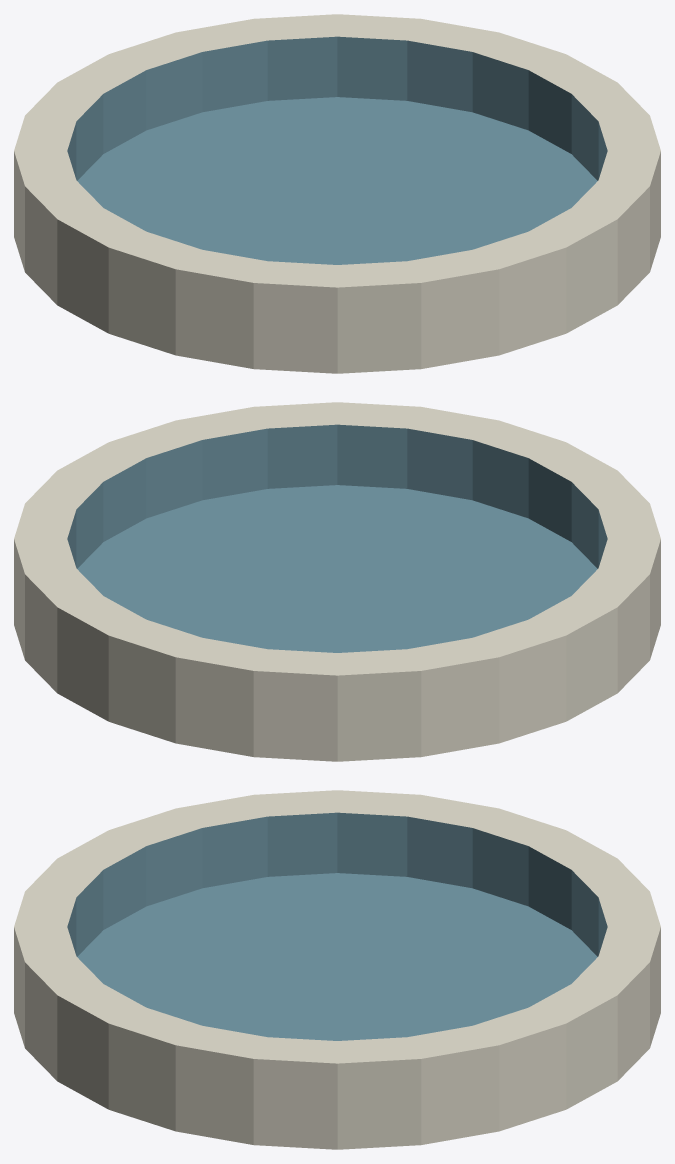
The model's file is park_fountain_basin.glb.
3 views of the same model, one above another, from view 1: azimuth 30°, elevation 25°; view 2: azimuth 150°, elevation 25°; view 3: azimuth 270°, elevation 25° (orthographic).
Visible parts, largest first — view 1: park_fountain_basin; view 2: park_fountain_basin; view 3: park_fountain_basin.
Boxes of the visible parts, x1,y1,x2,y2 form: park_fountain_basin: (14,14,660,373); park_fountain_basin: (14,402,660,761); park_fountain_basin: (14,790,660,1149).
Size of the model in its own units: 3.4 by 0.5 by 3.4.
